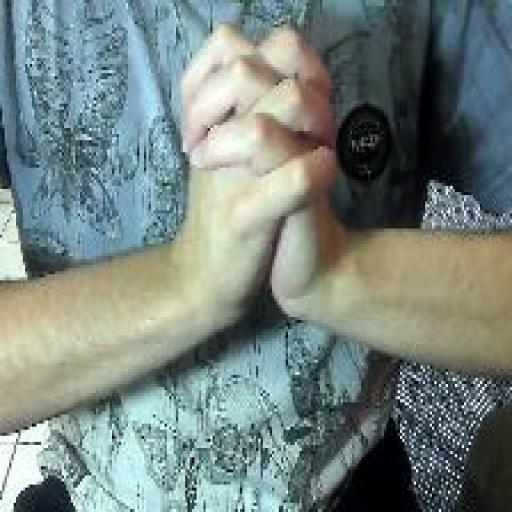Mi -snake-: (176, 18, 341, 329)
